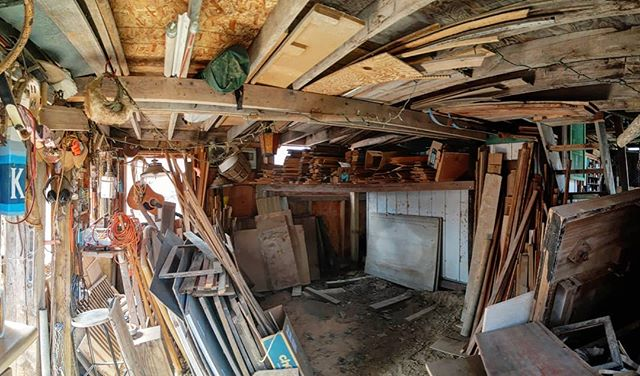trash: (1, 22, 635, 372)
